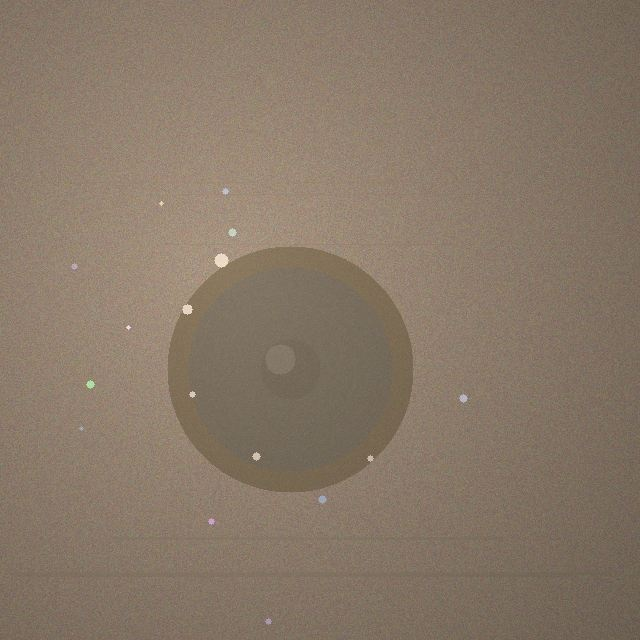overburn: (167, 246, 413, 492)
